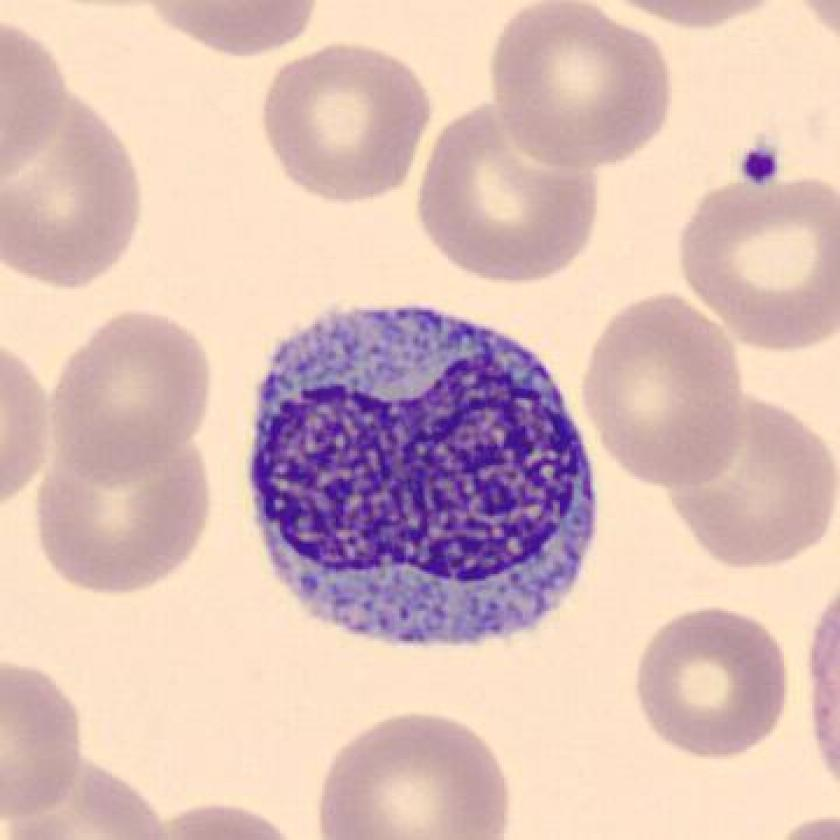monocyte: (237, 284, 619, 675)
